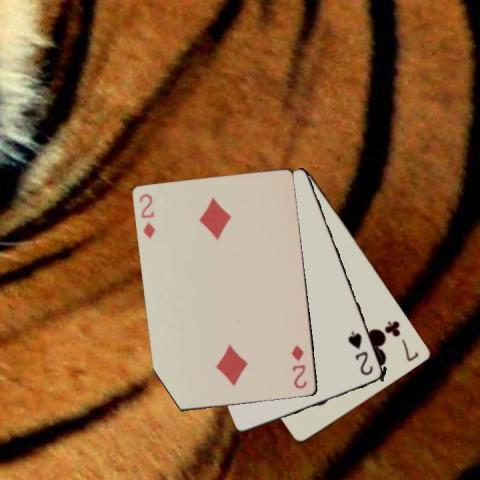2d: (288, 342, 308, 390), (137, 191, 156, 241)
2s: (346, 328, 374, 377)
7c: (383, 317, 421, 364)
